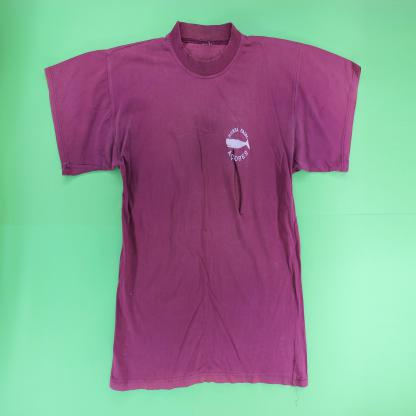hole: (230, 146, 245, 219)
